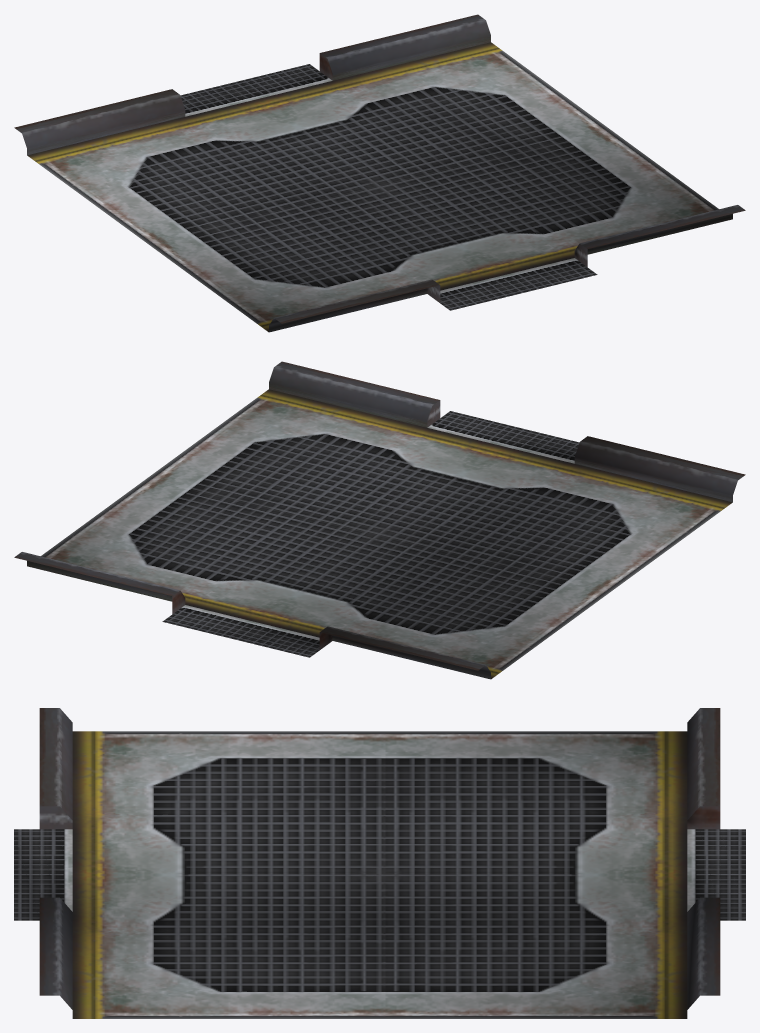
File: MESH_CORREDOR_GROUND_Door.fbx
The picture shows the model from 3 angles, top to bottom: view 1: azimuth 30°, elevation 25°; view 2: azimuth 150°, elevation 25°; view 3: azimuth 270°, elevation 25°; orthographic projection. The views are drawn at different scales.
Parts seen in each view (by area): view 1: MESH CORREDOR_GROUND_Door; view 2: MESH CORREDOR_GROUND_Door; view 3: MESH CORREDOR_GROUND_Door.
Part boxes in pixels (box(x1,y1,x2,y2)): MESH CORREDOR_GROUND_Door: box(14, 14, 745, 332); MESH CORREDOR_GROUND_Door: box(14, 361, 745, 679); MESH CORREDOR_GROUND_Door: box(14, 708, 745, 1018).
Bounding box in the file's own units: 4 × 0.15 × 4.3.
